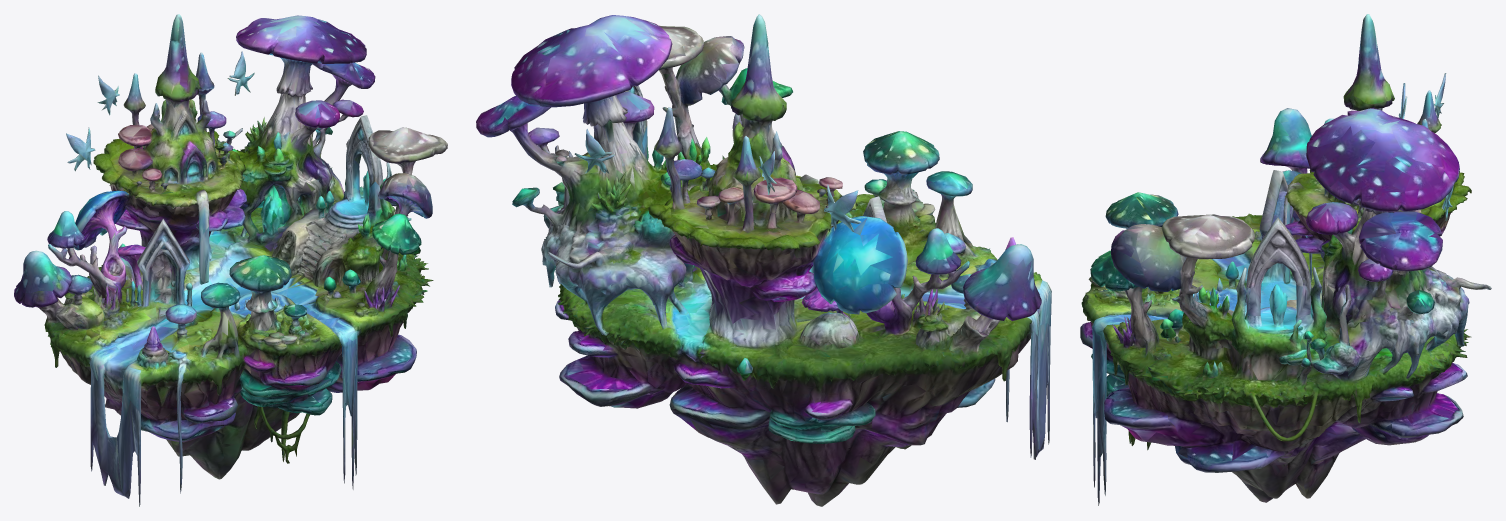
The model's file is Floating_Isle_of_Biol.glb.
The picture shows the model from 3 angles, left to right: view 1: azimuth 30°, elevation 25°; view 2: azimuth 150°, elevation 25°; view 3: azimuth 270°, elevation 25°; orthographic projection. The views are drawn at different scales.
Parts seen in each view (by area): view 1: Floating_Isle_of_Biol; view 2: Floating_Isle_of_Biol; view 3: Floating_Isle_of_Biol.
Part boxes in pixels (<box>): Floating_Isle_of_Biol: <box>14,14,447,506</box>; Floating_Isle_of_Biol: <box>476,14,1051,506</box>; Floating_Isle_of_Biol: <box>1080,14,1491,505</box>.
Size of the model in its own units: 1.86 by 1.9 by 1.44.
Materials: 1 (1 with a texture image).
